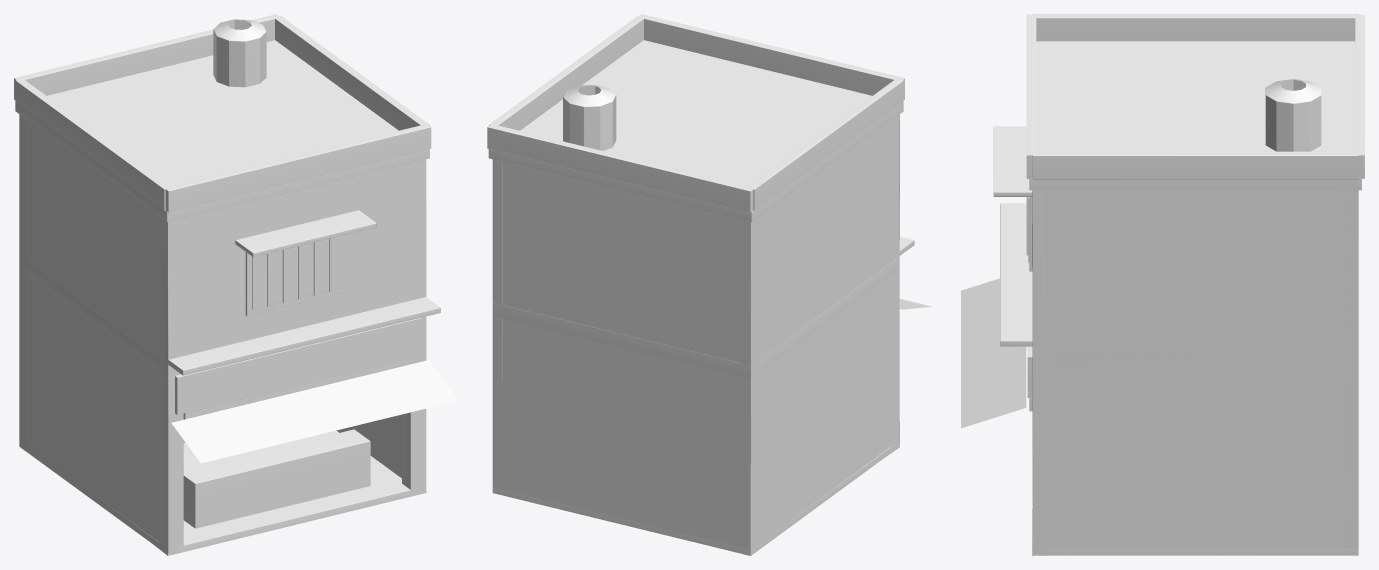
File: market_shop_7.glb
The picture shows the model from 3 angles, left to right: view 1: azimuth 30°, elevation 25°; view 2: azimuth 150°, elevation 25°; view 3: azimuth 270°, elevation 25°; orthographic projection. The views are drawn at different scales.
Parts seen in each view (by area): view 1: MarketShop7; view 2: MarketShop7; view 3: MarketShop7.
Part boxes in pixels (x1=…): MarketShop7: x1=14, y1=14, x2=458, y2=555; MarketShop7: x1=487, y1=14, x2=931, y2=555; MarketShop7: x1=961, y1=14, x2=1364, y2=555.
Size of the model in its own units: 5.15 by 7.35 by 6.19.
Materials: 1 (1 with a texture image).
